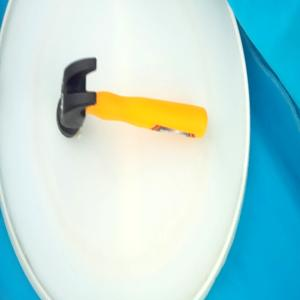martelo: (56, 58, 209, 140)
